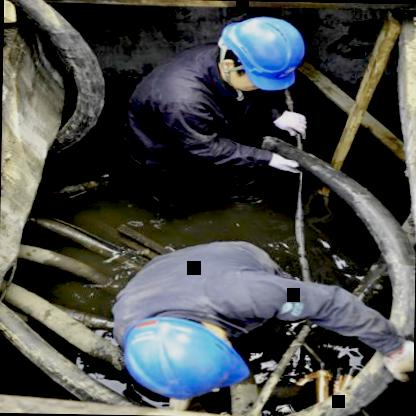helmet: (109, 294, 269, 398), (214, 12, 314, 96)
